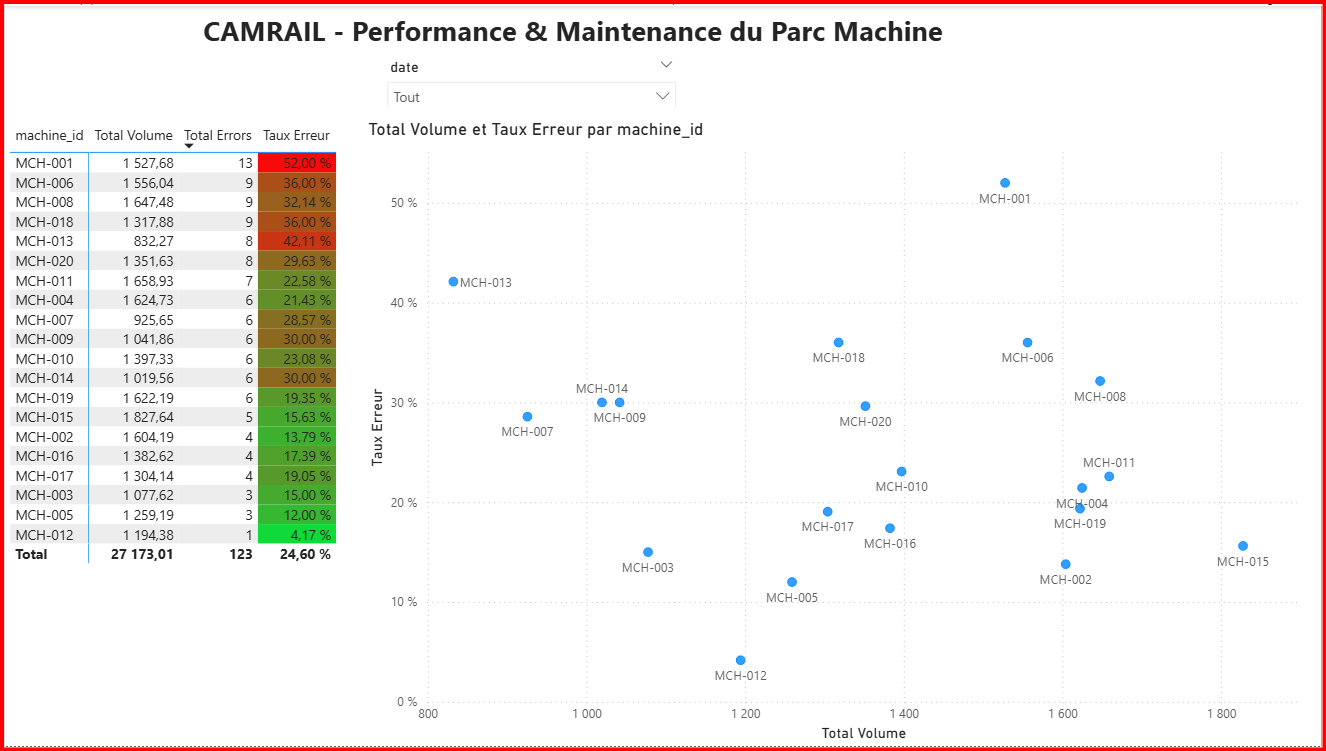

Layout of this report page (visuals, bound fields, positions):
{"tool":"powerbi","page":{"name":"02 - Performance Parc","canvas":[1280,720],"ordinal":1},"visuals":[{"type":"pivotTable","fields":{"Rows":["erp_daily_transactions.machine_id"],"Values":["_Mesures.Total Volume","_Mesures.Total Errors","_Mesures.Taux Erreur"]},"box":[0,109.9,348.2,437.7],"z":0},{"type":"scatterChart","fields":{"Category":["erp_daily_transactions.machine_id"],"X":["_Mesures.Total Volume"],"Y":["_Mesures.Taux Erreur"]},"box":[348.2,109.9,931.8,609.8],"z":1000},{"type":"slicer","fields":{"Values":["erp_daily_transactions.date"]},"box":[361.8,45.7,300.5,53.5],"z":2000},{"type":"textbox","box":[187.7,0,785.9,45.7],"z":3000}]}

Visuals, with their boxes in screenshot pixels (x1, y1, x2, y2), scaled from the page's 1280x720 canvas onto the 1326x751 screenshot:
pivotTable - erp_daily_transactions.machine_id x _Mesures.Total Volume: bbox=[0, 115, 361, 571]
scatterChart - erp_daily_transactions.machine_id x _Mesures.Total Volume: bbox=[361, 115, 1325, 750]
slicer - erp_daily_transactions.date: bbox=[375, 48, 686, 103]
textbox: bbox=[194, 0, 1009, 48]
